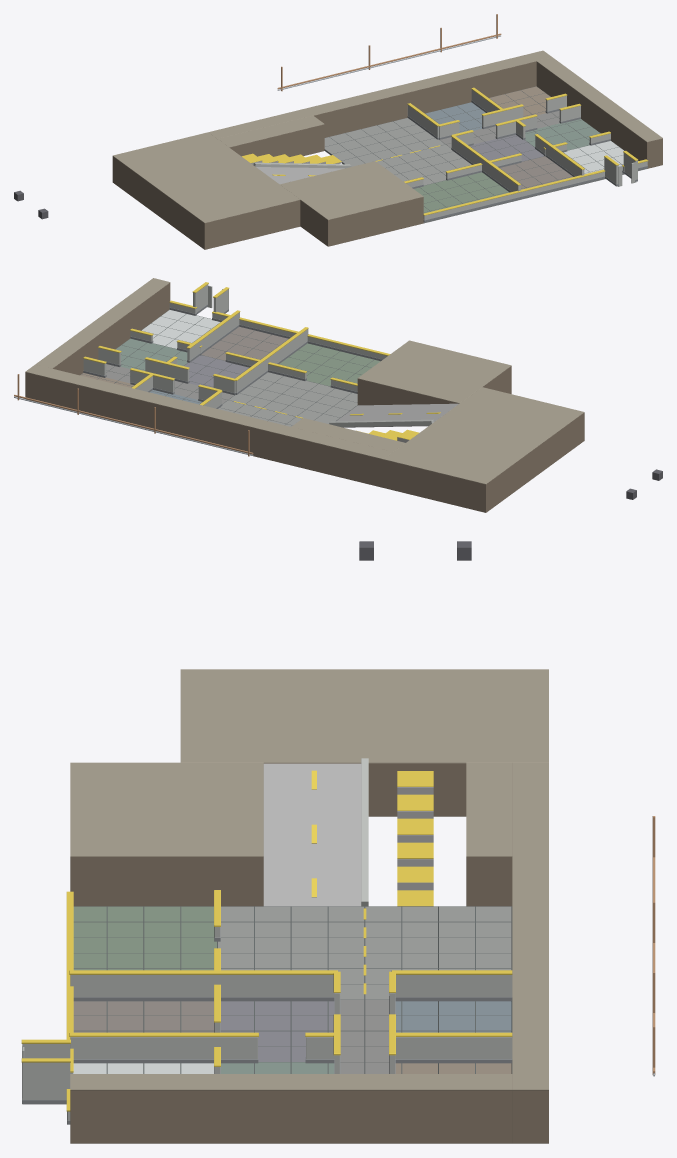
The model's file is бункер.glb.
3 renders of one model, top to bottom at view 1: azimuth 30°, elevation 25°; view 2: azimuth 150°, elevation 25°; view 3: azimuth 270°, elevation 25°, orthographic. The views are drawn at different scales.
Parts seen in each view (by area): view 1: Деталь_002 (×7), Деталь_001 (×13), Деталь_008, Деталь_006 (×2), Деталь_003 (×2), Деталь_009, Деталь_010, Деталь_005, Деталь_004, Автодорога_001, Деталь_007, Разделитель_013; view 2: Деталь_002 (×7), Деталь_001 (×11), Деталь_008, Деталь_006 (×2), Автодорога_001, Деталь_010, Деталь_009, Деталь_005, Деталь_007, Разделитель_013, Деталь_003; view 3: Деталь_002 (×9), Деталь_001 (×10), Автодорога_001, Деталь_008, Деталь_003 (×3), Деталь_005, Деталь_009, Деталь_007, Деталь_010, Деталь_006, Деталь_004, Лестница_003 (+1 smaller).
Boxes of the visible parts, bbox=[...] form: Деталь_002 (×7): bbox=[113, 50, 662, 222]; Деталь_001 (×13): bbox=[112, 33, 662, 249]; Деталь_008: bbox=[414, 172, 509, 213]; Деталь_006 (×2): bbox=[277, 35, 600, 150]; Деталь_003 (×2): bbox=[423, 102, 604, 222]; Деталь_009: bbox=[500, 156, 572, 189]; Деталь_010: bbox=[563, 141, 638, 174]; Деталь_005: bbox=[470, 135, 543, 161]; Деталь_004: bbox=[489, 86, 550, 117]; Автодорога_001: bbox=[256, 167, 344, 184]; Деталь_007: bbox=[440, 110, 559, 147]; Разделитель_013: bbox=[253, 162, 351, 168]; Деталь_002 (×7): bbox=[25, 278, 584, 484]; Деталь_001 (×11): bbox=[14, 283, 584, 512]; Деталь_008: bbox=[279, 343, 380, 386]; Деталь_006 (×2): bbox=[14, 338, 253, 455]; Автодорога_001: bbox=[336, 403, 458, 427]; Деталь_010: bbox=[142, 310, 220, 348]; Деталь_009: bbox=[201, 327, 288, 360]; Деталь_005: bbox=[184, 355, 248, 387]; Деталь_007: bbox=[106, 364, 233, 403]; Разделитель_013: bbox=[329, 419, 433, 426]; Деталь_003: bbox=[212, 318, 382, 361]; Деталь_002 (×9): bbox=[66, 669, 548, 1090]; Деталь_001 (×10): bbox=[22, 763, 548, 1143]; Автодорога_001: bbox=[263, 763, 361, 906]; Деталь_008: bbox=[73, 906, 216, 970]; Деталь_003 (×3): bbox=[73, 997, 511, 1063]; Деталь_005: bbox=[220, 1001, 334, 1061]; Деталь_009: bbox=[73, 1001, 214, 1032]; Деталь_007: bbox=[340, 1000, 389, 1073]; Деталь_010: bbox=[73, 1063, 214, 1073]; Деталь_006: bbox=[220, 1062, 334, 1073]; Деталь_004: bbox=[395, 1063, 511, 1073]; Лестница_003: bbox=[397, 811, 433, 890].
Bounding box in the file's own units: 68.8 × 5.94 × 34.41.
